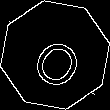O_NE: (23, 22, 87, 88)
